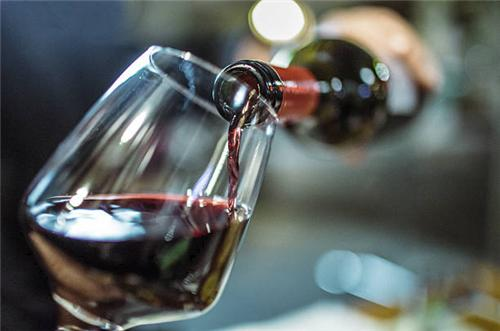alcohol: (17, 45, 276, 329), (213, 31, 433, 150)
